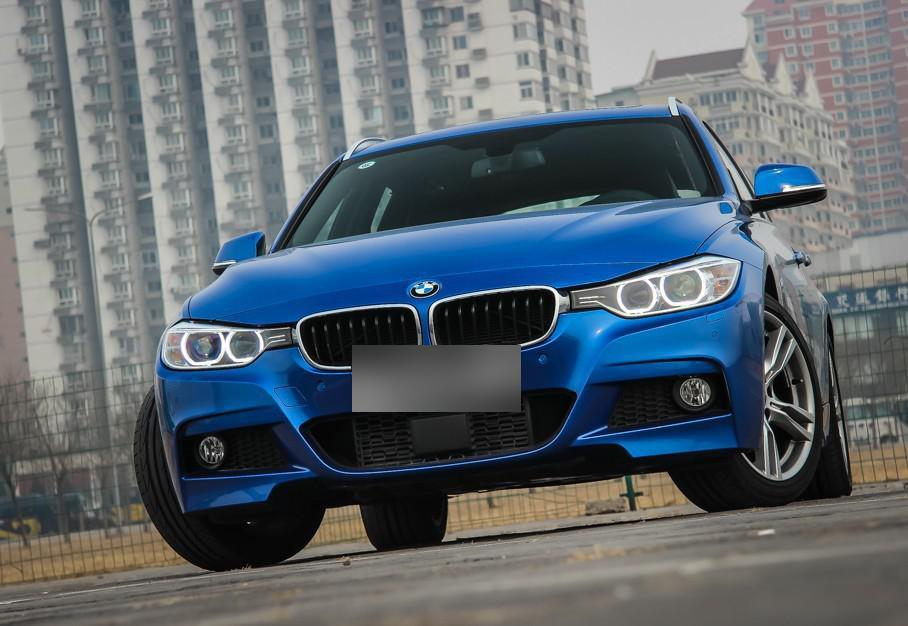Wagon: (133, 96, 854, 572)
